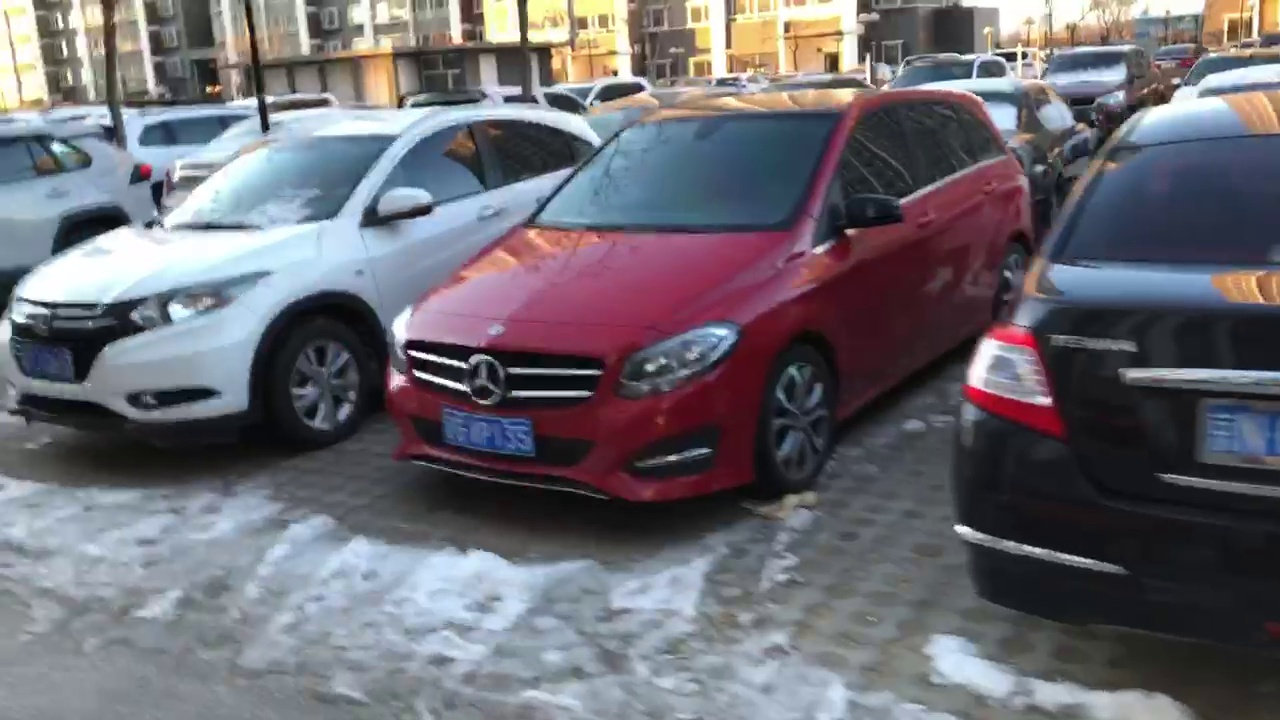plate: (445, 411, 540, 456), (16, 345, 79, 380)
